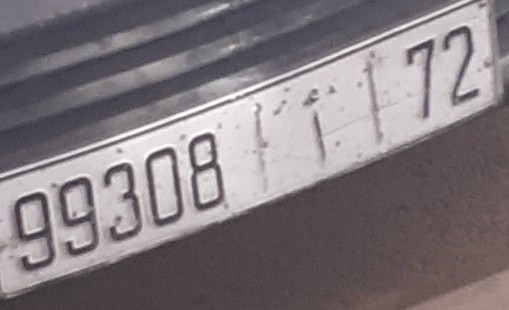0: (144, 144, 185, 228)
2: (441, 26, 483, 107)
3: (101, 162, 144, 242)
7: (404, 37, 438, 122)
8: (187, 131, 226, 212)
9: (58, 176, 101, 257), (13, 191, 55, 272)
a: (301, 87, 331, 167)
